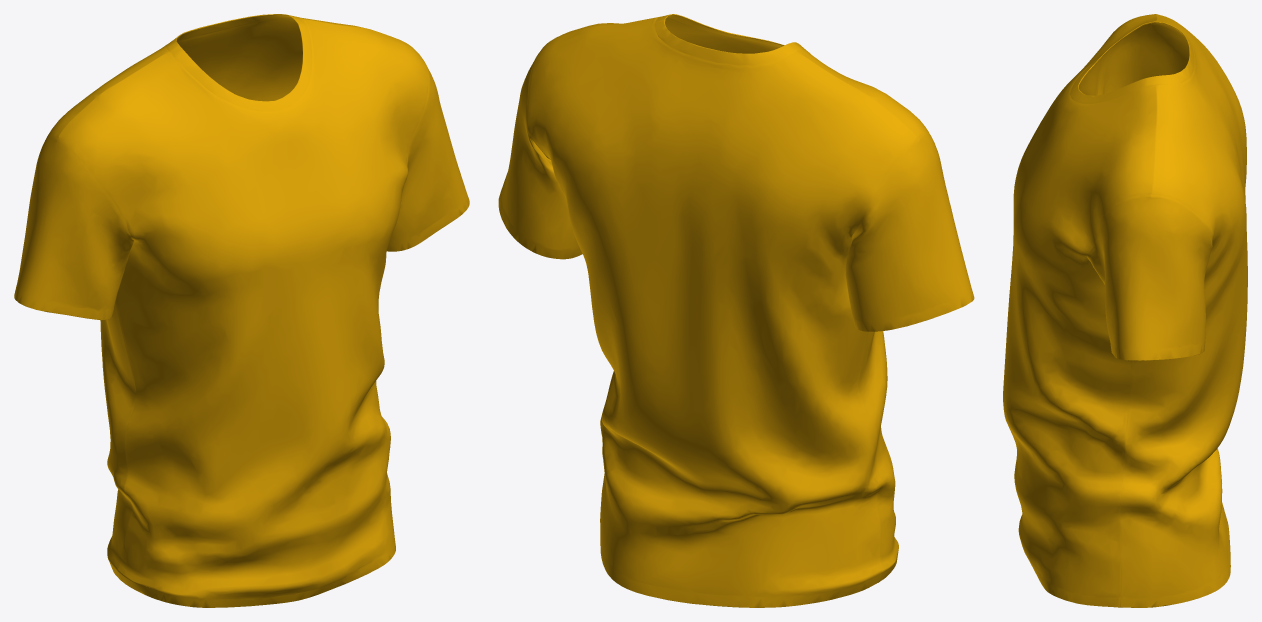
File: TShirt.glb
The picture shows the model from 3 angles, left to right: view 1: azimuth 30°, elevation 25°; view 2: azimuth 150°, elevation 25°; view 3: azimuth 270°, elevation 25°; orthographic projection. The views are drawn at different scales.
Visible parts, largest first — view 1: ref_Tshirt; view 2: ref_Tshirt; view 3: ref_Tshirt.
Part boxes in pixels (x1,y1,x2,y2): ref_Tshirt: (14, 14, 469, 607); ref_Tshirt: (498, 14, 974, 607); ref_Tshirt: (1003, 14, 1247, 607).
Size of the model in its own units: 0.5502 by 0.613 by 0.269.
